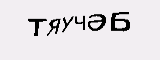А: (59, 26, 77, 42)
И: (76, 24, 89, 41)
М: (37, 27, 59, 46)
Р: (104, 24, 121, 45)
Т: (89, 24, 104, 43)
